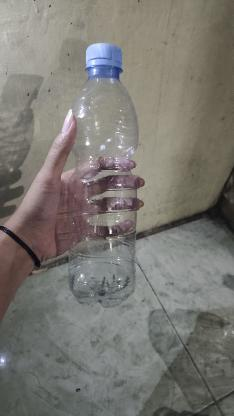Plastic Bottle: (56, 43, 140, 308)
